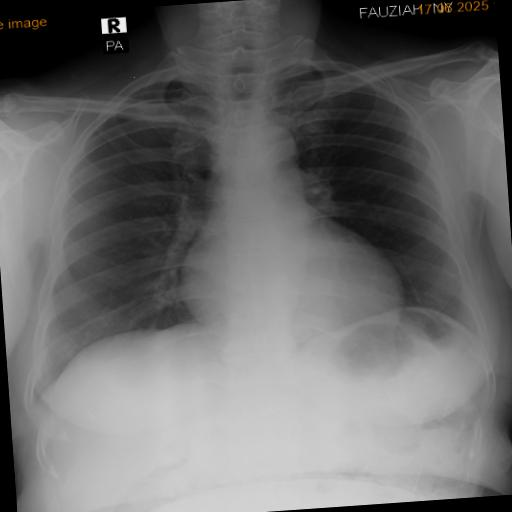kardiomegali: (3, 34, 500, 420)
